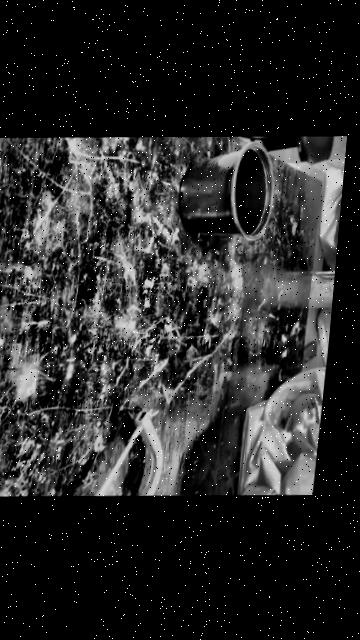pot: (174, 136, 278, 239)
